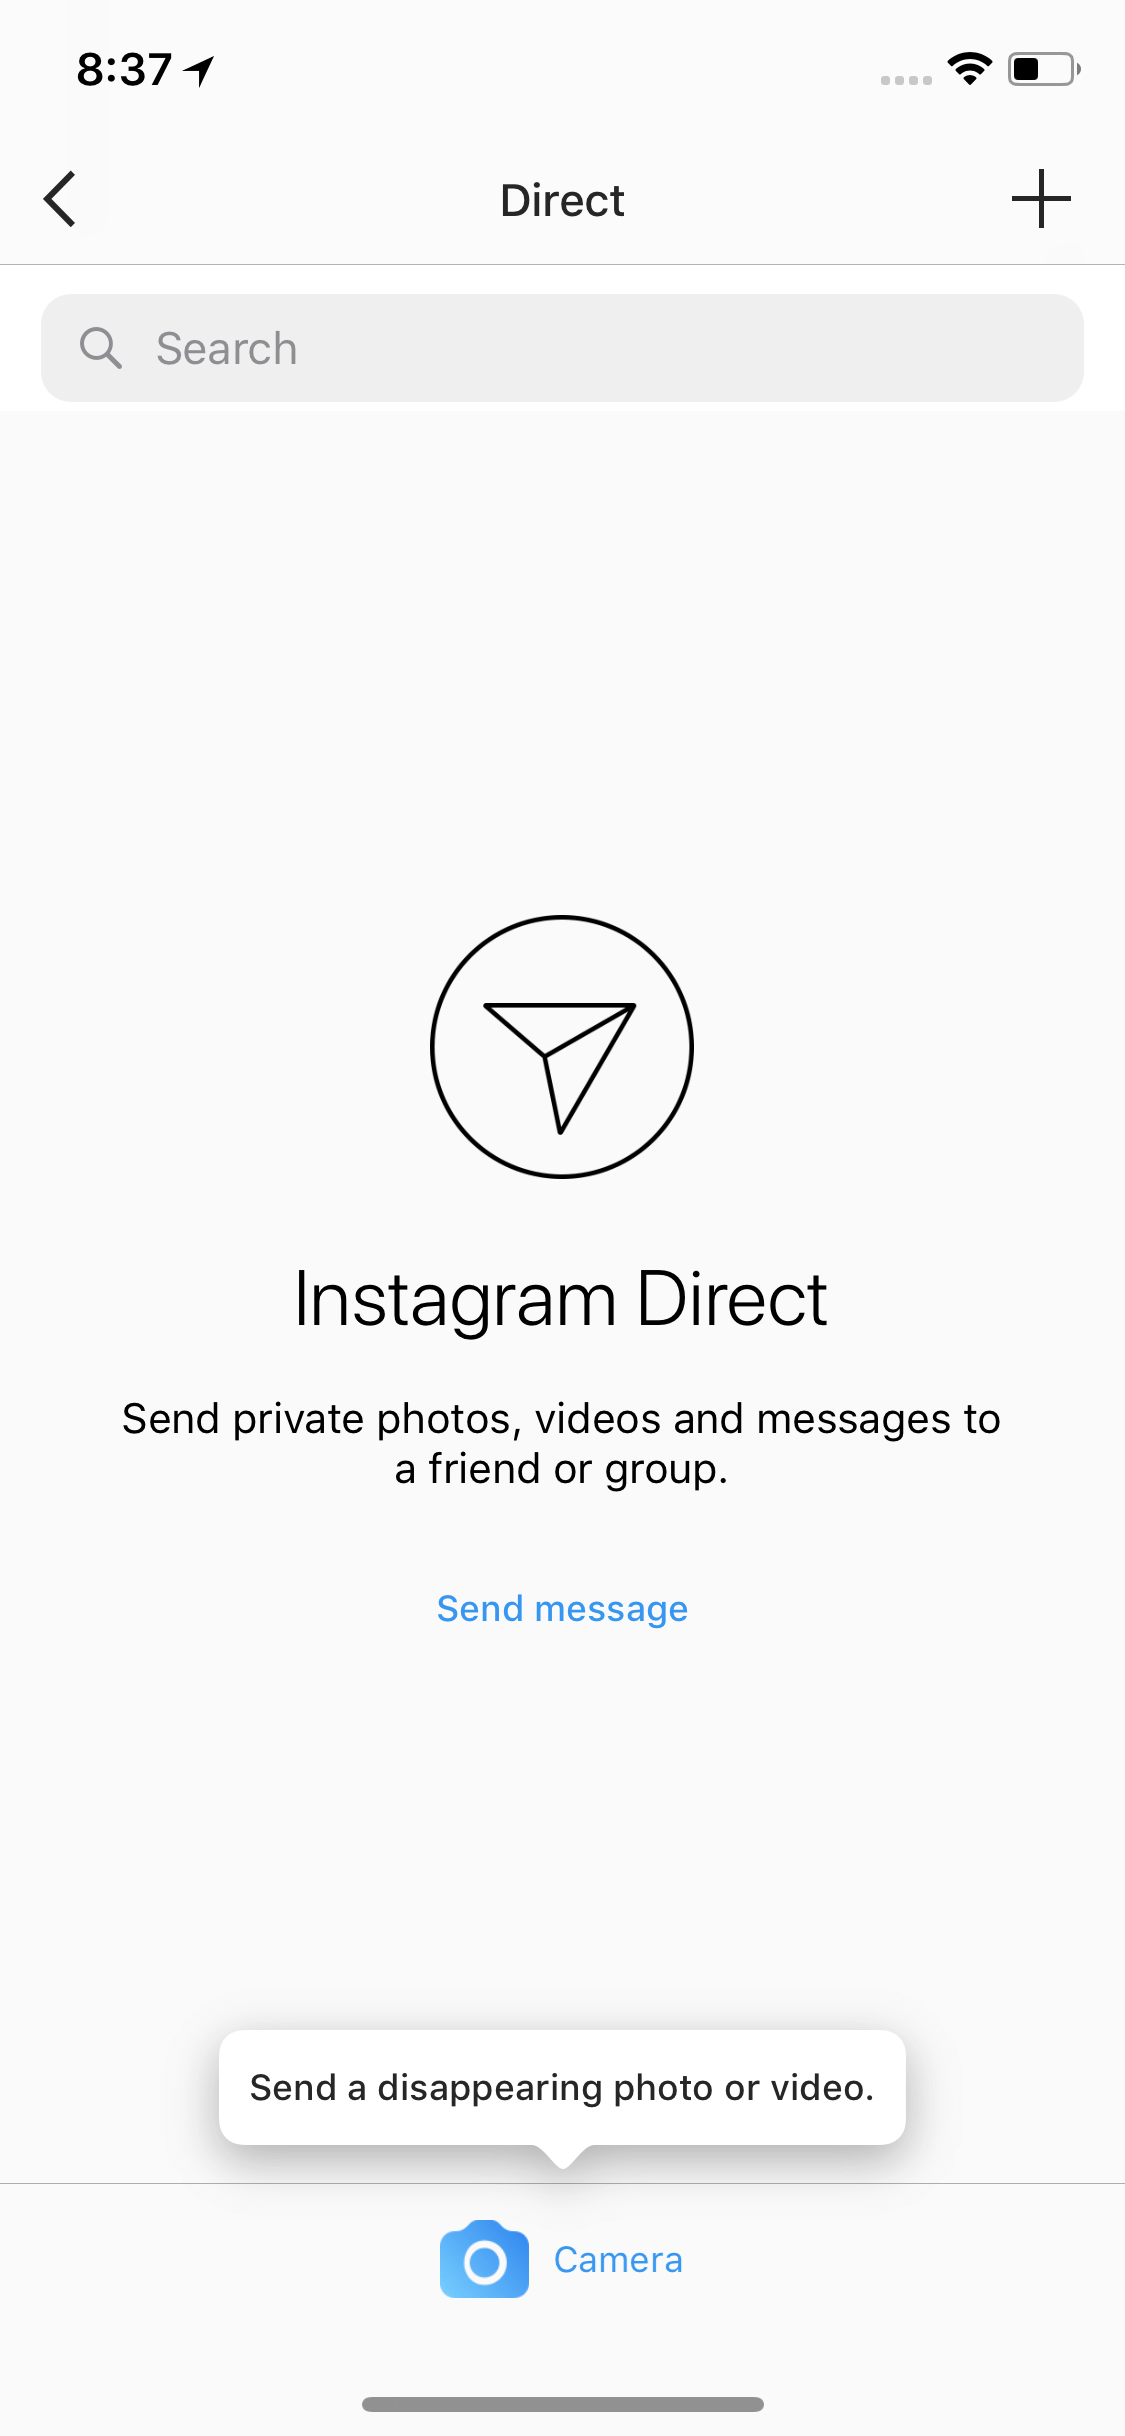Buttons: (371, 2195, 774, 2330), (357, 1561, 766, 1675), (16, 127, 148, 263), (977, 129, 1099, 266)
